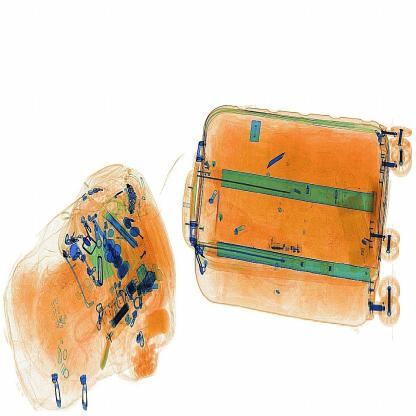pliers: (256, 144, 291, 174)
